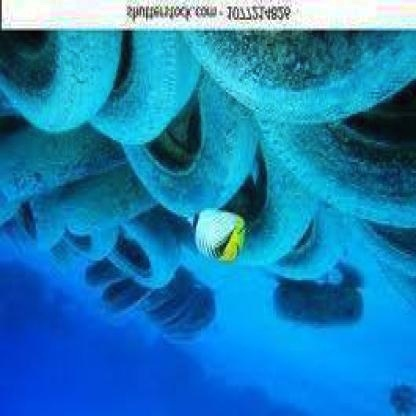tire: (178, 24, 414, 118), (259, 116, 416, 237), (117, 83, 252, 217), (210, 140, 310, 272), (2, 26, 130, 129), (88, 28, 206, 138), (96, 267, 218, 348), (1, 125, 128, 186), (61, 158, 152, 243), (347, 217, 416, 302), (266, 199, 334, 285), (118, 200, 179, 283), (11, 182, 57, 254), (58, 214, 126, 258)
